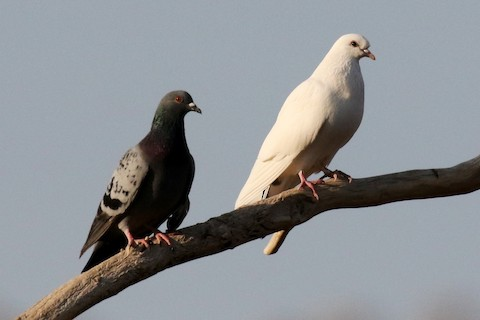pigeon: (223, 29, 378, 262), (74, 84, 206, 280)
